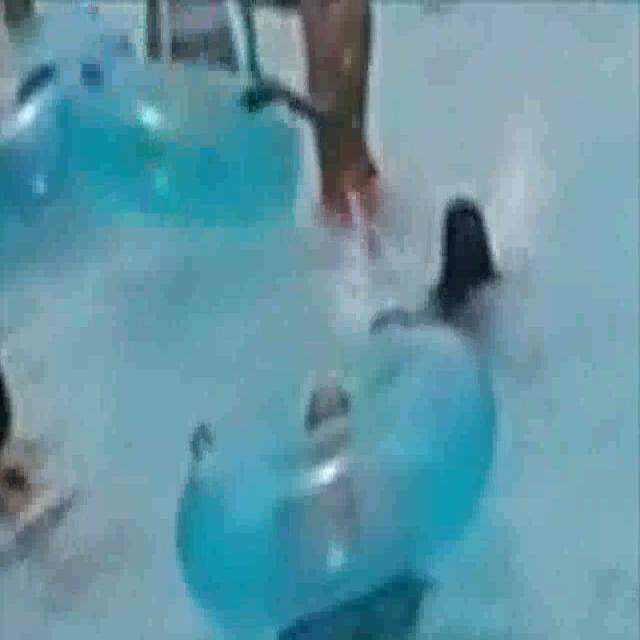Out of Water: (394, 190, 576, 369)
